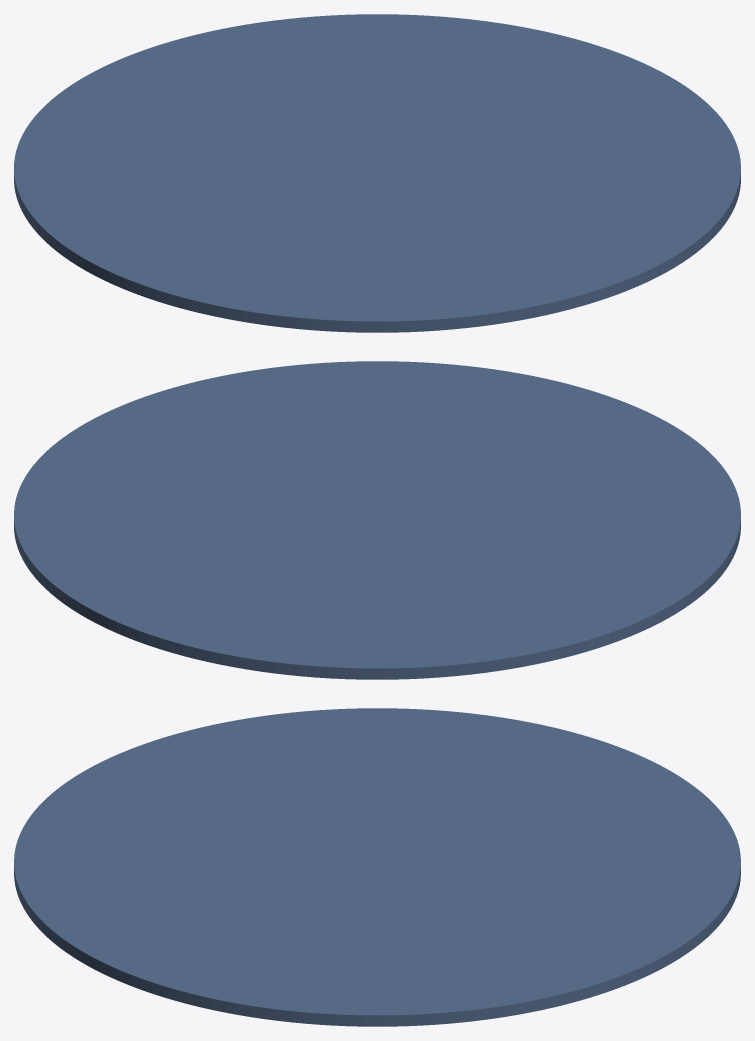
File: dial-nh05-black-sunburst-245.glb
3 views of the same model, one above another, from view 1: azimuth 30°, elevation 25°; view 2: azimuth 150°, elevation 25°; view 3: azimuth 270°, elevation 25° (orthographic).
Visible parts, largest first — view 1: DD_DIAL_SUBSTRATE; view 2: DD_DIAL_SUBSTRATE; view 3: DD_DIAL_SUBSTRATE.
Boxes of the visible parts, bbox=[...] form: DD_DIAL_SUBSTRATE: bbox=[14, 14, 740, 332]; DD_DIAL_SUBSTRATE: bbox=[14, 361, 740, 679]; DD_DIAL_SUBSTRATE: bbox=[14, 708, 740, 1026].
Bounding box in the file's own units: 24.5 × 0.42 × 24.5.
